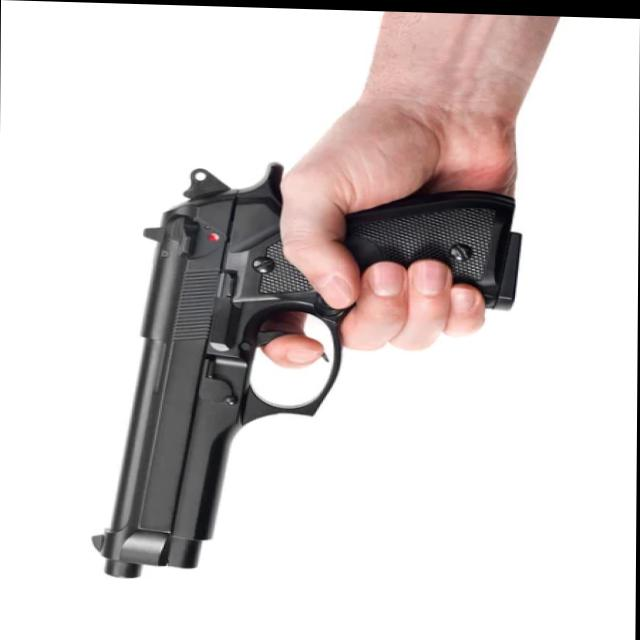handgun: (87, 157, 528, 589)
